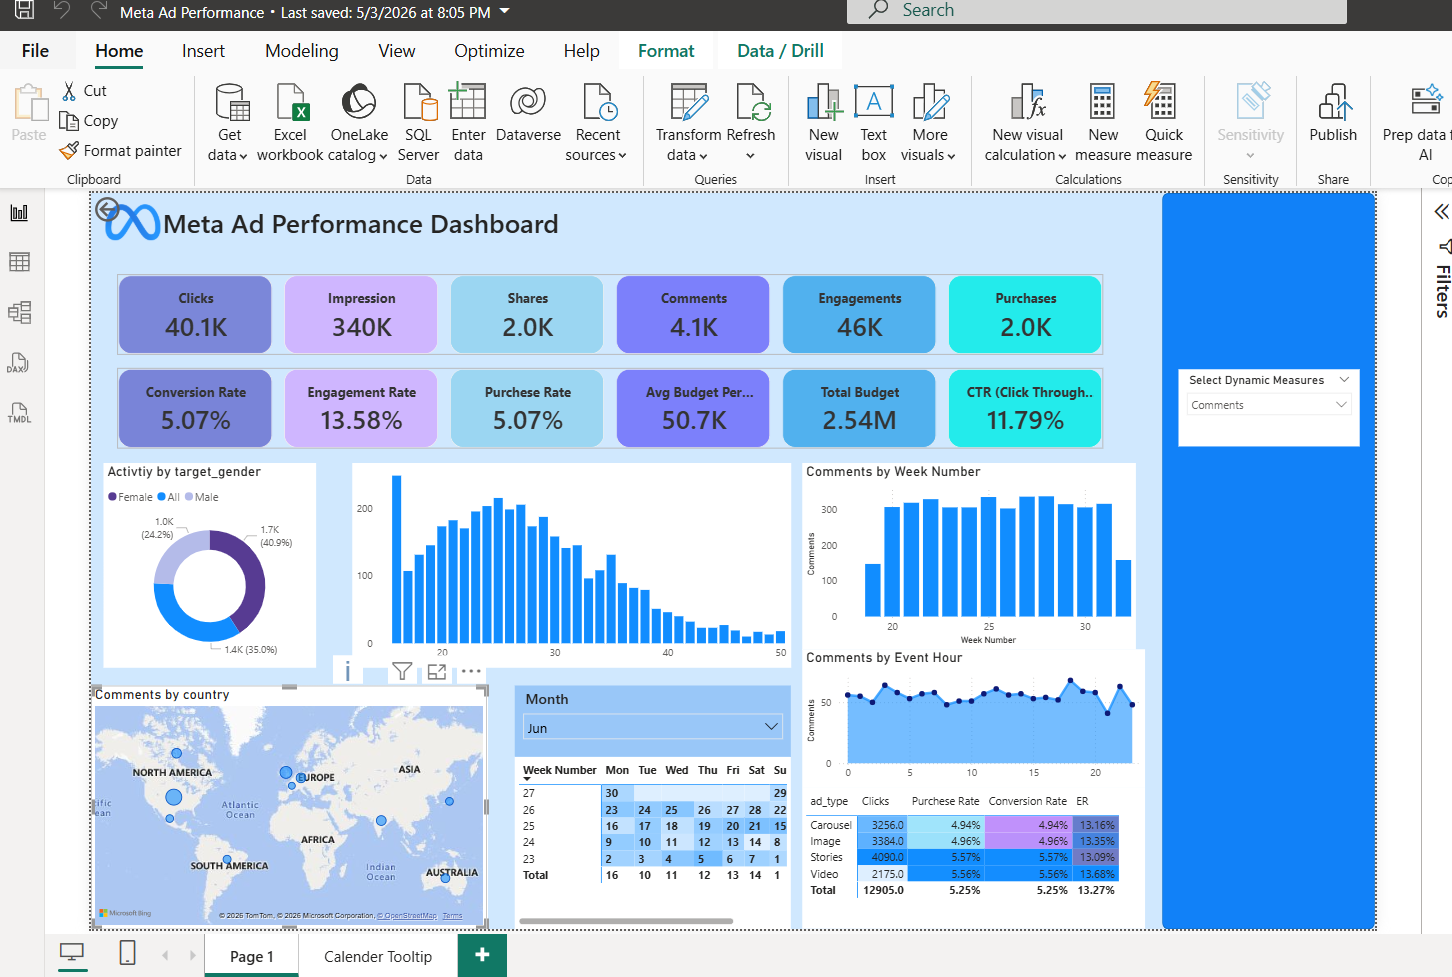

This screenshot's page, from the dashboard's own definition file:
{"tool":"powerbi","page":{"name":"Page 1","canvas":[1570,900],"ordinal":0},"visuals":[{"type":"textbox","box":[71.8,7.6,518.2,56.6],"z":0},{"type":"image","box":[15.3,13.8,71.8,44.3],"z":1000},{"type":"shape","box":[1310,0,259.9,900.3],"z":2000},{"type":"cardVisual","fields":{"Data":["ad_events.Clicks","ad_events.Impression","ad_events.Shares","ad_events.Comments","ad_events.Engagements","ad_events.Purchases"]},"box":[15.3,82.5,1239.6,133],"z":3000},{"type":"cardVisual","fields":{"Data":["ad_events.Conversion Rate","ad_events.Engagement Rate","ad_events.Purchese Rate","ad_events.Avg Budget Per Campaign","ad_events.Total Budget","ad_events.CTR (Click Through Rate)"]},"box":[15.3,197.2,1239.6,133],"z":4000},{"type":"slicer","fields":{"Values":["Select Dynamic Measures.Select Dynamic Measures"]},"box":[1329.8,215.5,221.6,94.8],"z":5000},{"type":"donutChart","title":"Activtiy by target_gender","fields":{"Y":["ad_events.Comments"],"Category":["ads.target_gender"],"Series":["ads.target_gender"]},"box":[15.3,330.2,259.9,250.7],"z":6000},{"type":"actionButton","box":[0,0,100,40],"z":7000},{"type":"columnChart","fields":{"Y":["ad_events.Comments"],"Category":["users.user_age"]},"box":[319.5,330.2,536.5,250.7],"z":8000},{"type":"map","fields":{"Size":["ad_events.Comments"],"Category":["users.country"]},"box":[0,602.2,484.5,298.1],"z":9000},{"type":"pivotTable","fields":{"Rows":["Calender Table.Week Number"],"Columns":["Calender Table.Day Name"],"Values":["Min(Calender Table.Day Number)"]},"box":[518.2,689.4,337.8,210.9],"z":10000},{"type":"slicer","fields":{"Values":["Calender Table.Month"]},"box":[518.2,602.2,337.8,87.1],"z":11000},{"type":"columnChart","fields":{"Y":["ad_events.Comments"],"Category":["Calender Table.Week Number"]},"box":[869.7,330.2,408.1,227.8],"z":12000},{"type":"areaChart","fields":{"Y":["ad_events.Comments"],"Category":["ad_events.Event Hour"]},"box":[869.7,557.9,418.8,169.7],"z":13000},{"type":"pivotTable","fields":{"Rows":["ads.ad_type"],"Values":["ad_events.Clicks","ad_events.Purchese Rate","ad_events.Conversion Rate","ad_events.Engagement Rate"]},"box":[870,728,419,172],"z":14000}]}

Visuals, with their boxes on the page's 1570x900 design canvas (x1, y1, x2, y2). These are canvas units, not pixel positions in the 1452x977 screenshot, which may show the page scaled, cropped or inside an application window:
textbox: l=72, t=8, r=590, b=64
image: l=15, t=14, r=87, b=58
shape: l=1310, t=0, r=1570, b=900
cardVisual - ad_events.Clicks x ad_events.Impression: l=15, t=82, r=1255, b=216
cardVisual - ad_events.Conversion Rate x ad_events.Engagement Rate: l=15, t=197, r=1255, b=330
slicer - Select Dynamic Measures.Select Dynamic Measures: l=1330, t=216, r=1551, b=310
"Activtiy by target_gender" donutChart: l=15, t=330, r=275, b=581
actionButton: l=0, t=0, r=100, b=40
columnChart - ad_events.Comments x users.user_age: l=320, t=330, r=856, b=581
map - ad_events.Comments x users.country: l=0, t=602, r=484, b=900
pivotTable - Calender Table.Week Number x Calender Table.Day Name: l=518, t=689, r=856, b=900
slicer - Calender Table.Month: l=518, t=602, r=856, b=689
columnChart - ad_events.Comments x Calender Table.Week Number: l=870, t=330, r=1278, b=558
areaChart - ad_events.Comments x ad_events.Event Hour: l=870, t=558, r=1288, b=728
pivotTable - ads.ad_type x ad_events.Clicks: l=870, t=728, r=1289, b=900
